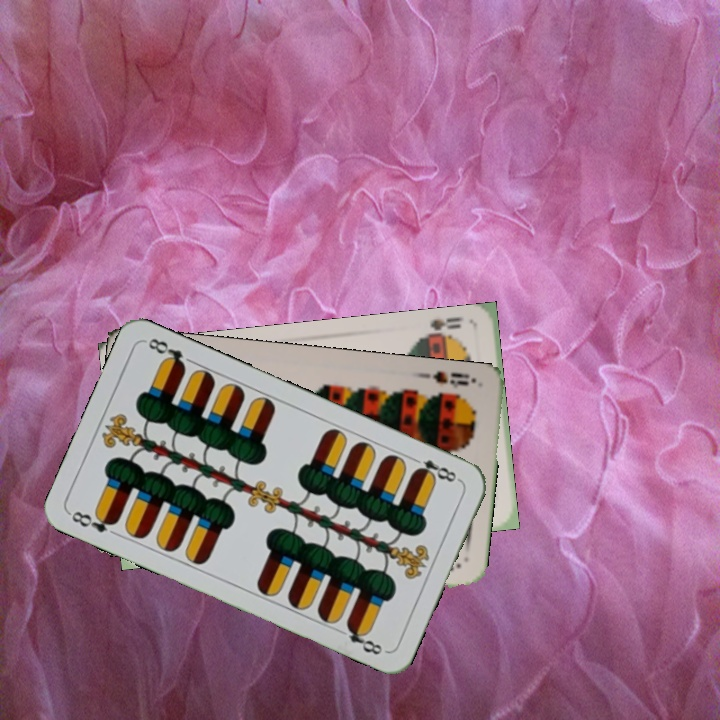E8: (407, 453, 463, 485), (66, 507, 121, 535)
S8: (429, 367, 471, 392)
SO: (414, 312, 466, 344)
